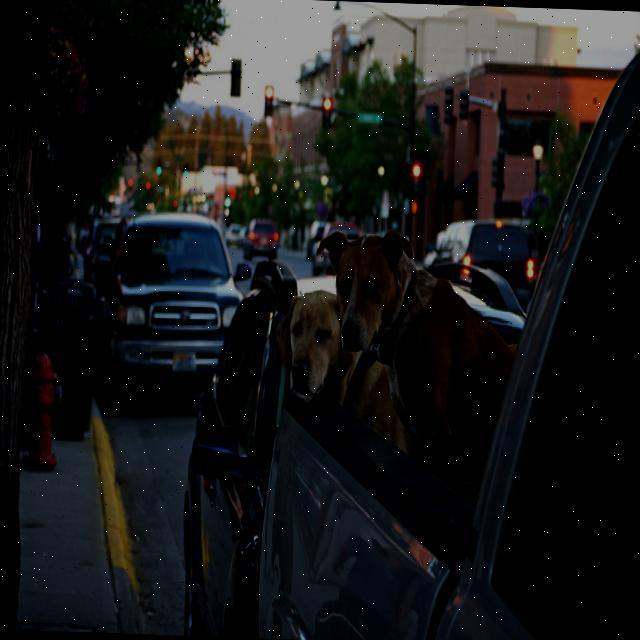fire_hydrant: (20, 349, 64, 471)
